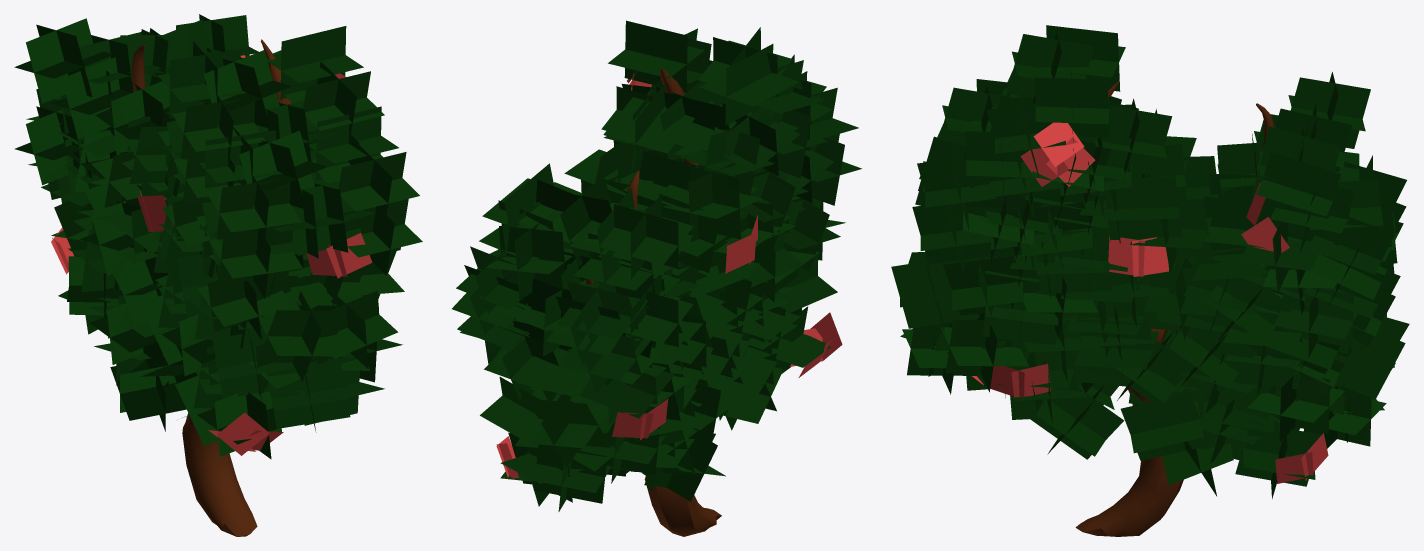
File: Frangipanier_2V3_low.fbx
The picture shows the model from 3 angles, left to right: view 1: azimuth 30°, elevation 25°; view 2: azimuth 150°, elevation 25°; view 3: azimuth 270°, elevation 25°; orthographic projection. The views are drawn at different scales.
Parts seen in each view (by area): view 1: Trunk; view 2: Trunk; view 3: Trunk.
Part boxes in pixels (bbox=[...]): Trunk: bbox=[14, 14, 422, 536]; Trunk: bbox=[452, 20, 861, 536]; Trunk: bbox=[891, 25, 1409, 536].
Size of the model in its own units: 839 by 1788 by 1722.
